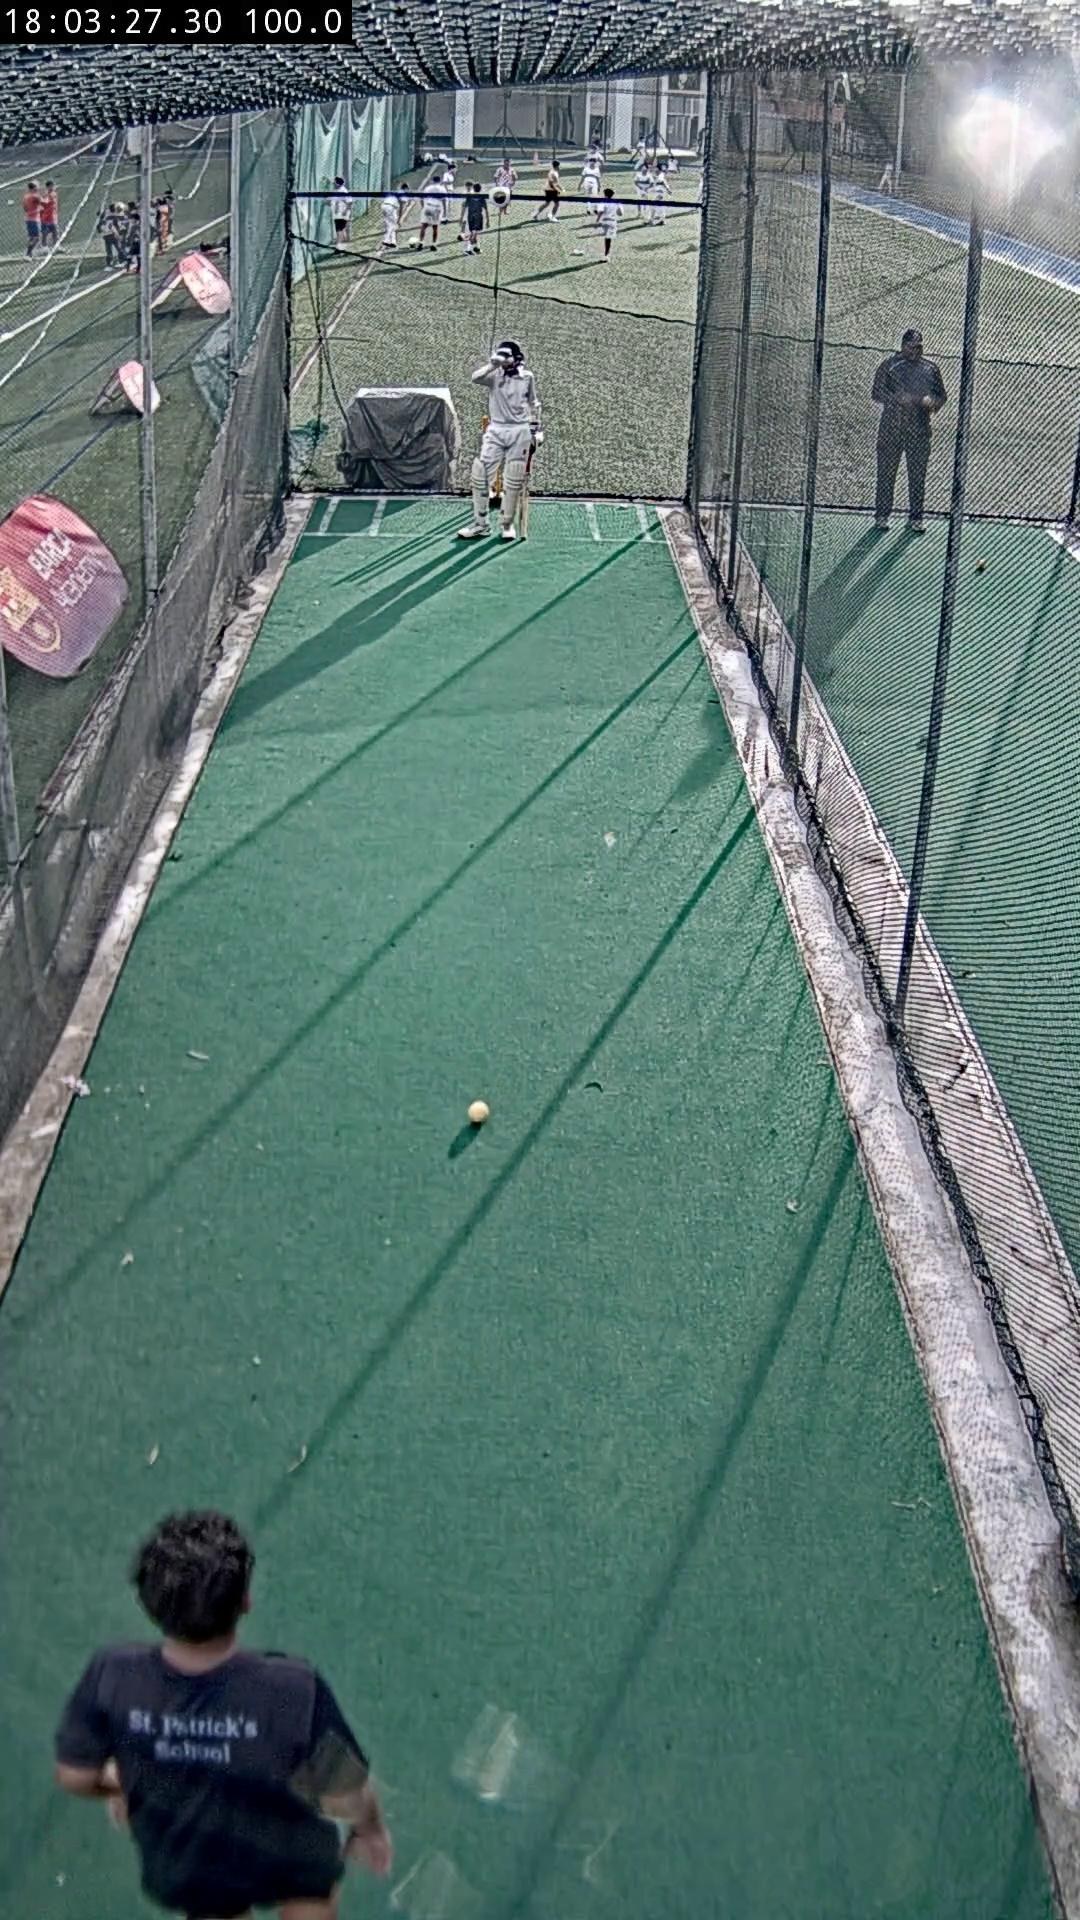ball: (468, 1098, 492, 1124)
